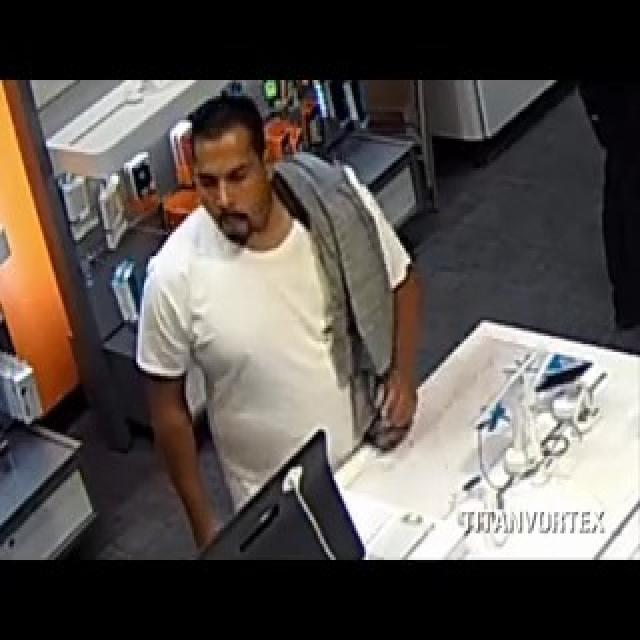Shoplifting: (144, 114, 314, 293)
